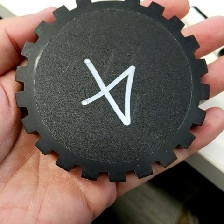gear: (13, 1, 212, 183)
